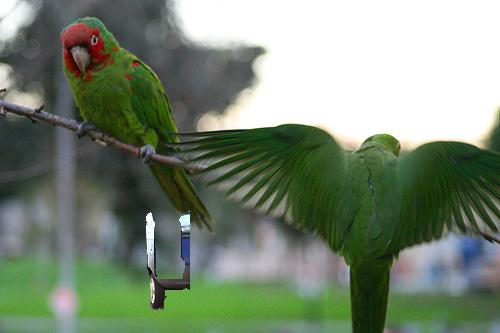tampered: (147, 212, 190, 311)
